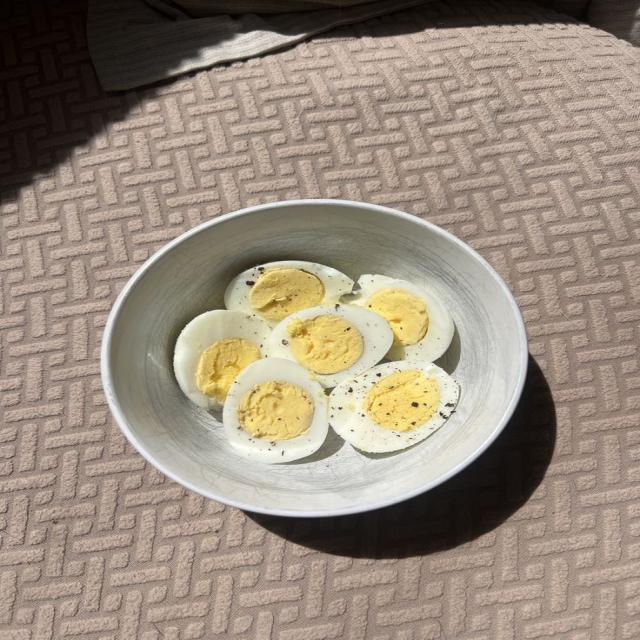egg boiled: (330, 361, 459, 452), (223, 358, 327, 463), (268, 305, 393, 387), (174, 310, 269, 409), (346, 275, 454, 361), (225, 261, 353, 325)
